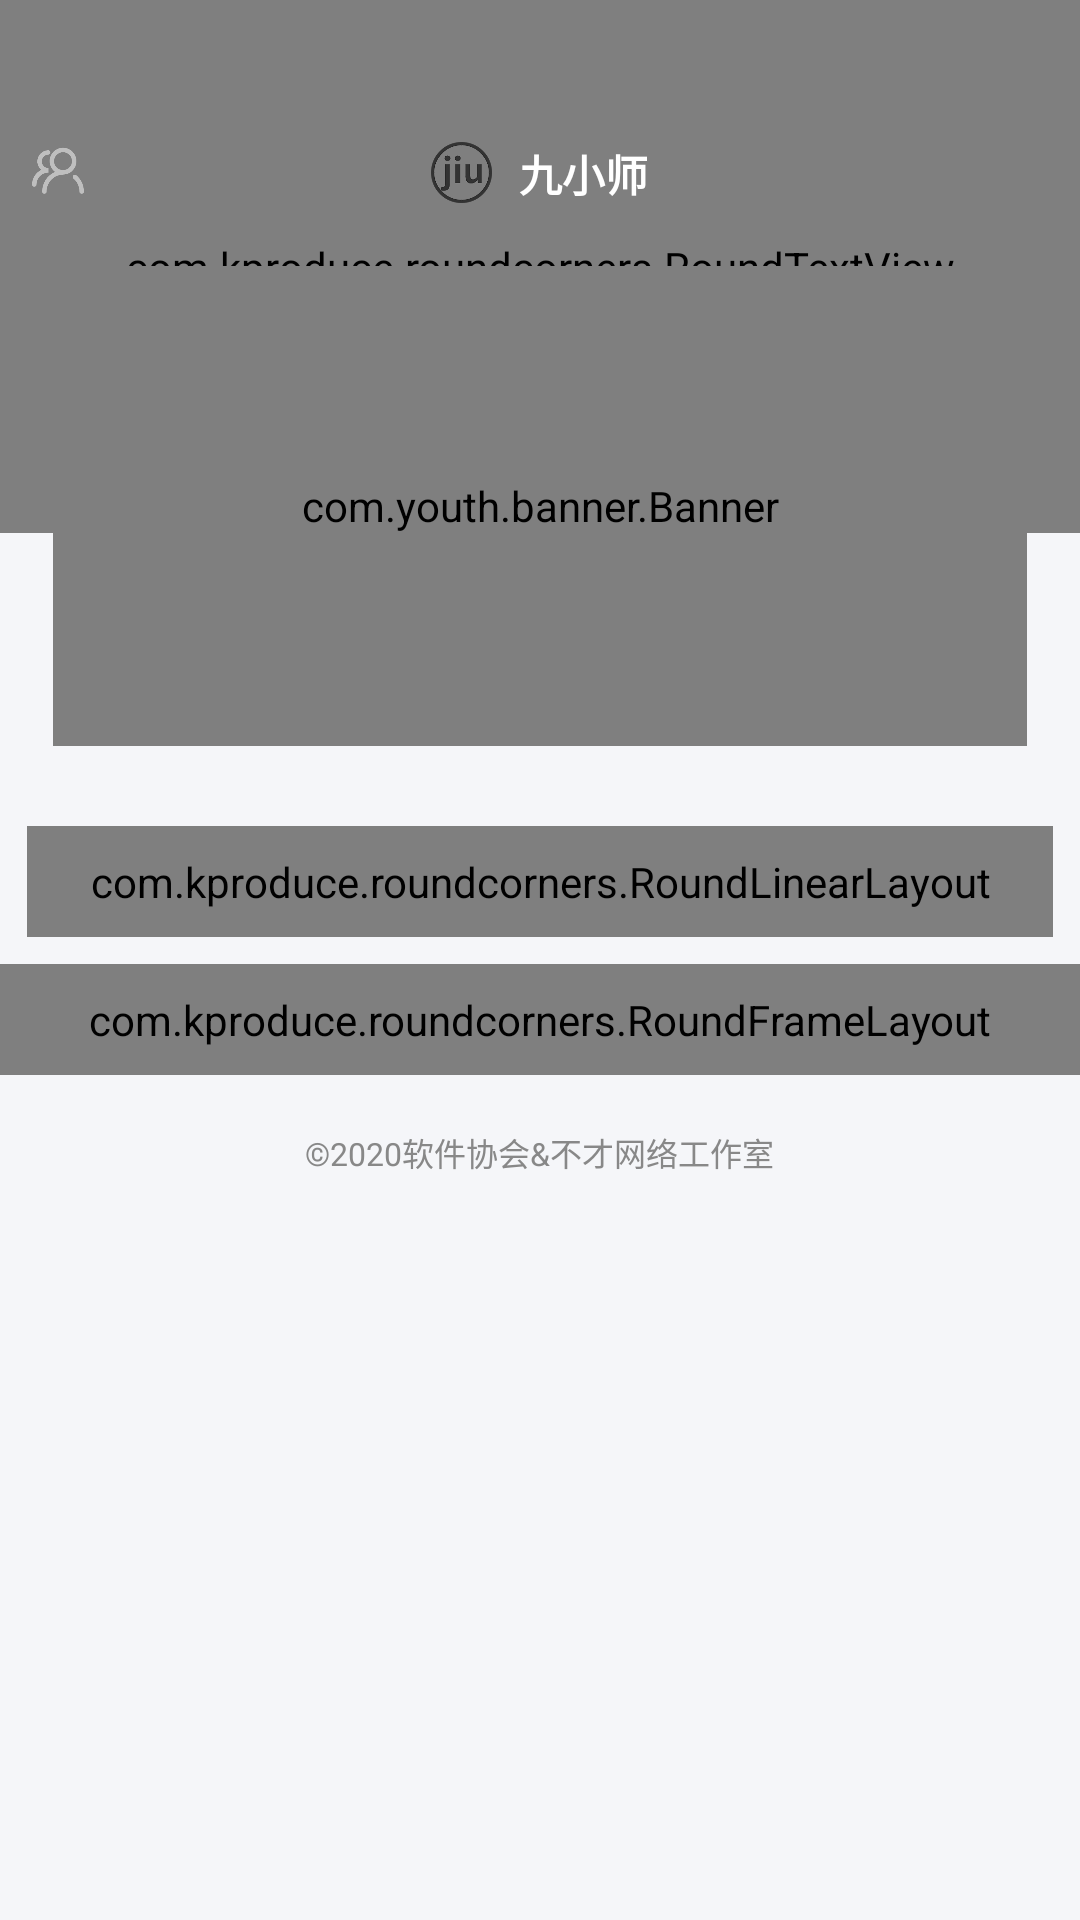

Icon bounding boxes for this 1080w x 1920h phone screenshot, format (x1, y1, x2, y2):
person: (32, 148, 84, 194)
